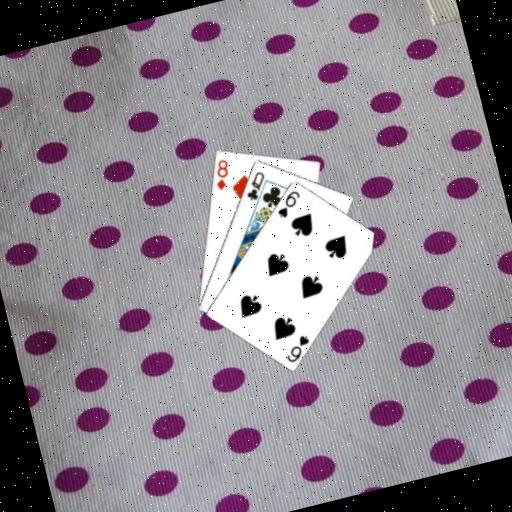6S: (270, 186, 306, 221), (279, 331, 315, 366)
8D: (207, 155, 235, 193)
QC: (239, 167, 272, 204)
